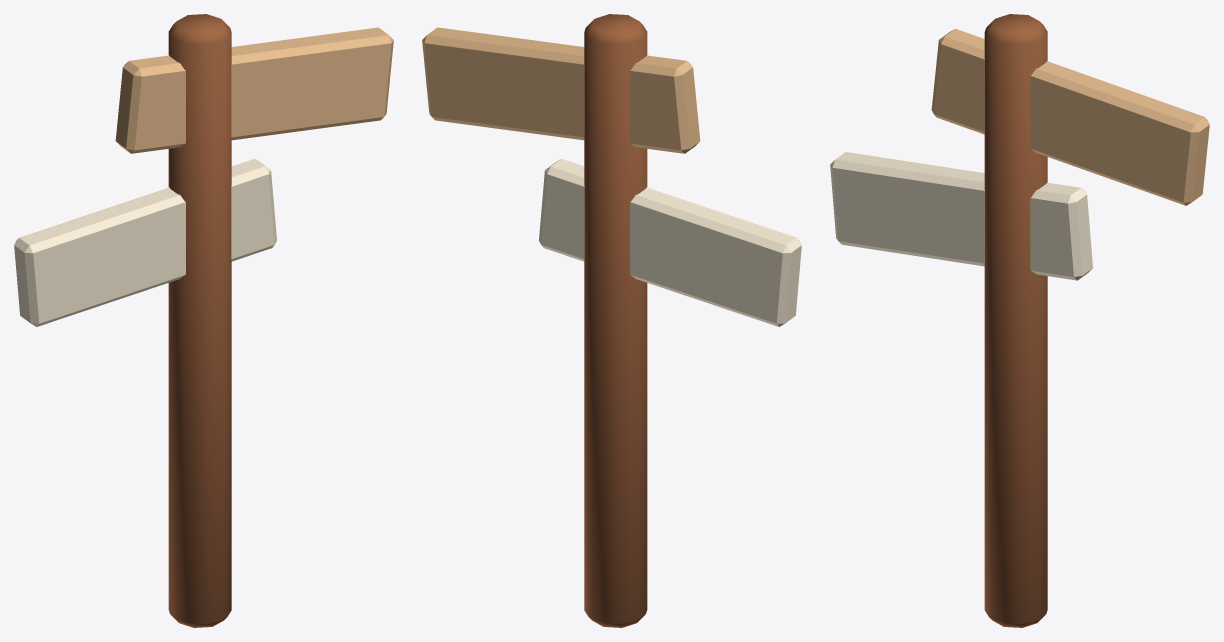
The picture shows the model from 3 angles, left to right: view 1: azimuth 30°, elevation 25°; view 2: azimuth 150°, elevation 25°; view 3: azimuth 330°, elevation 25°; orthographic projection.
Visible parts, largest first — view 1: Post, Arrow_A, Arrow_B; view 2: Post, Arrow_A, Arrow_B; view 3: Post, Arrow_A, Arrow_B.
Part boxes in pixels (x1=…): Post: x1=168, y1=14, x2=231, y2=627; Arrow_A: x1=115, y1=27, x2=393, y2=153; Arrow_B: x1=14, y1=158, x2=276, y2=326; Post: x1=584, y1=14, x2=647, y2=627; Arrow_A: x1=422, y1=27, x2=700, y2=153; Arrow_B: x1=539, y1=158, x2=801, y2=326; Post: x1=984, y1=14, x2=1047, y2=627; Arrow_A: x1=931, y1=28, x2=1209, y2=205; Arrow_B: x1=830, y1=152, x2=1092, y2=280.
Bounding box in the file's own units: 1.01 × 1.56 × 0.1447.
